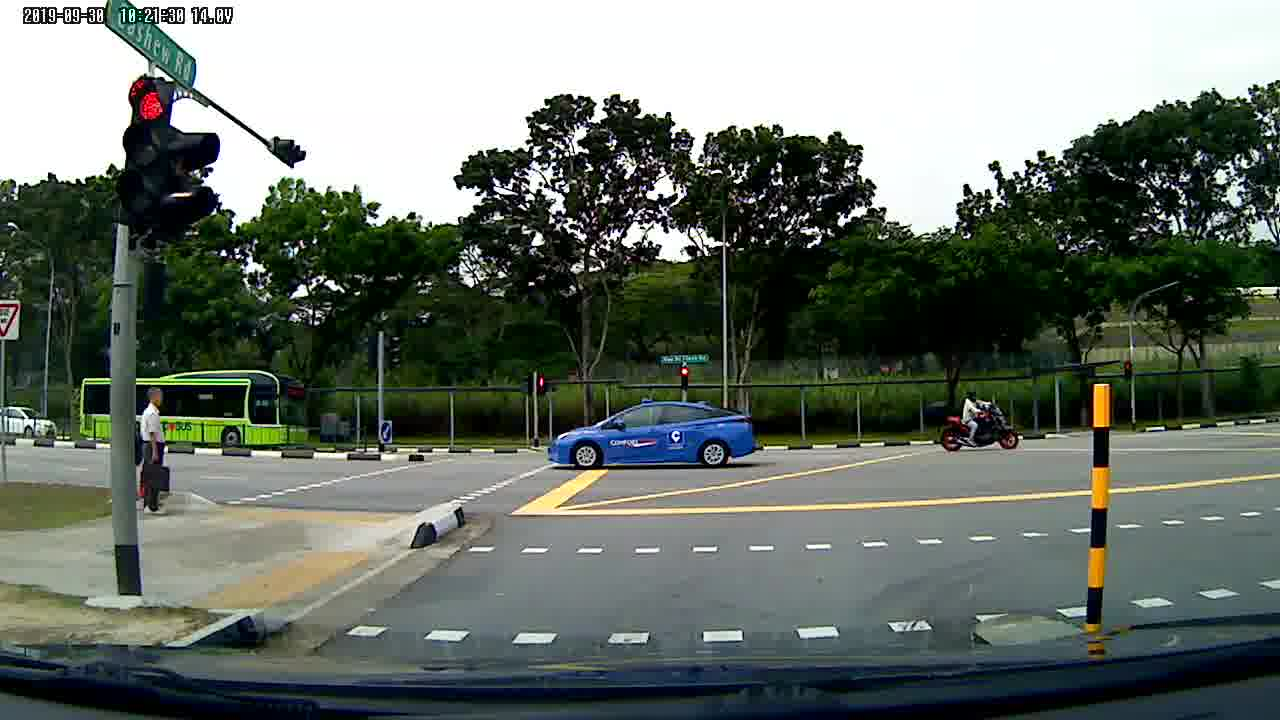bus: (78, 365, 313, 455)
car: (544, 396, 759, 474), (1, 403, 57, 440)
